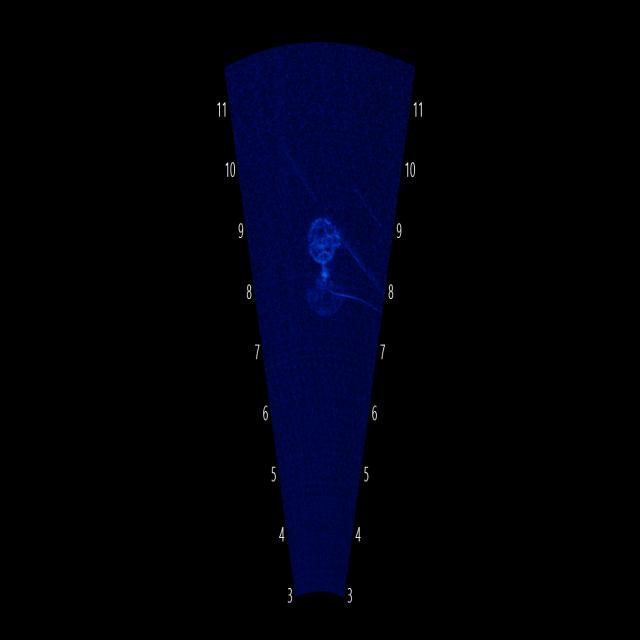circle: (296, 191, 352, 275)
